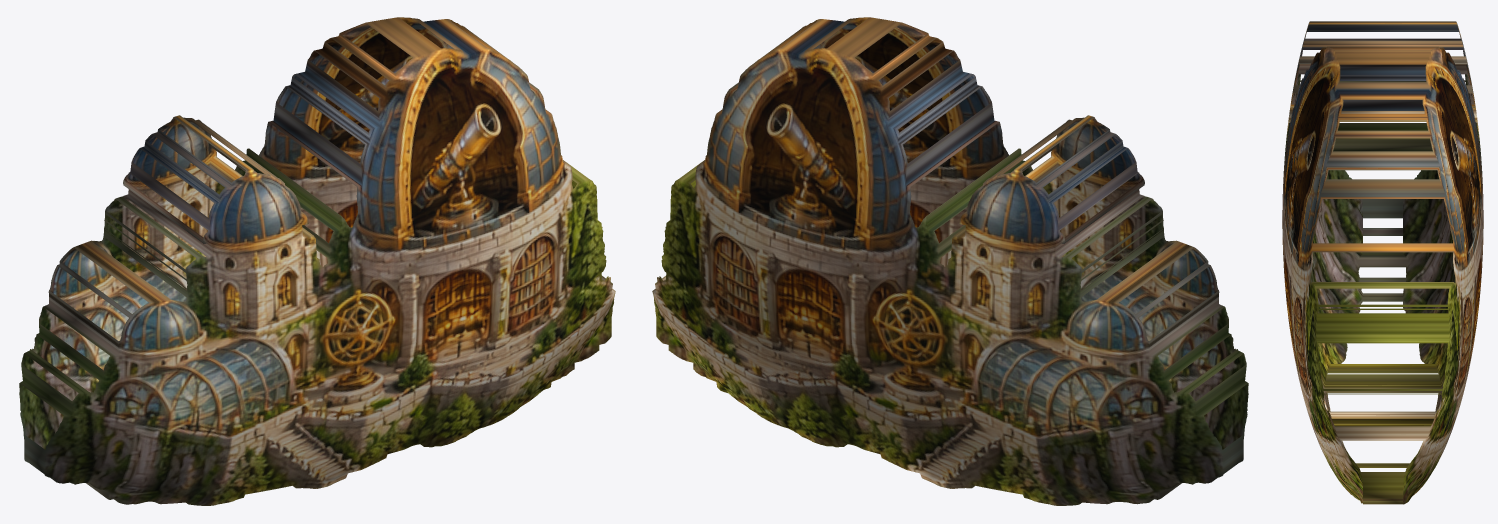
3 renders of one model, left to right at view 1: azimuth 30°, elevation 25°; view 2: azimuth 150°, elevation 25°; view 3: azimuth 270°, elevation 25°, orthographic.
Visible parts, largest first — view 1: civilizations:5; view 2: civilizations:5; view 3: civilizations:5.
Part boxes in pixels (box(x1,y1,x2,y2)): civilizations:5: box(19, 17, 615, 505); civilizations:5: box(652, 17, 1248, 505); civilizations:5: box(1282, 21, 1483, 504).
Bounding box in the file's own units: 1.38 × 0.9444 × 0.42.
Materials: 1 (1 with a texture image).
